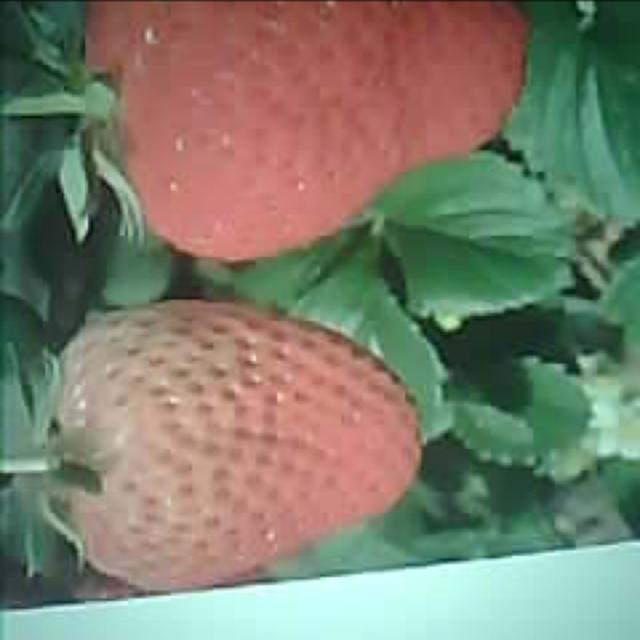ripe: (87, 0, 532, 261), (52, 296, 420, 590)
